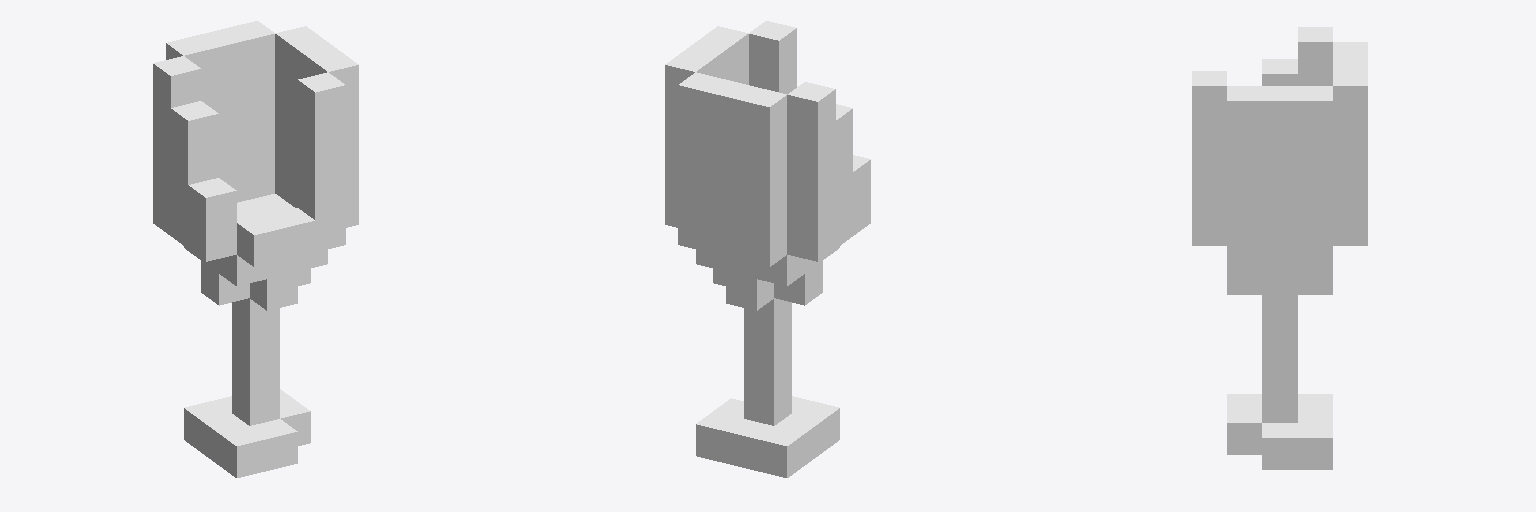
File: Verre(Battle-Scarred).obj
The picture shows the model from 3 angles: view 1: azimuth 30°, elevation 25°; view 2: azimuth 150°, elevation 25°; view 3: azimuth 270°, elevation 25°; orthographic projection.
Parts seen in each view (by area): view 1: object 1; view 2: object 1; view 3: object 1.
Boxes of the visible parts, x1=… form: object 1: x1=153, y1=21, x2=358, y2=477; object 1: x1=665, y1=21, x2=870, y2=477; object 1: x1=1192, y1=27, x2=1367, y2=469.
Bounding box in the file's own units: 0.5 × 1.2 × 0.5.